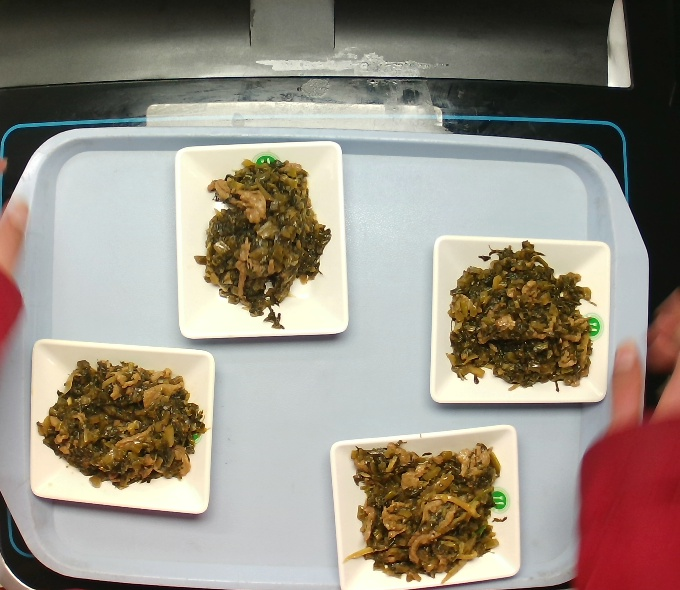wcq-XueCaiRouSi: (192, 155, 340, 328), (434, 239, 598, 387), (344, 440, 504, 579), (46, 354, 204, 492)
